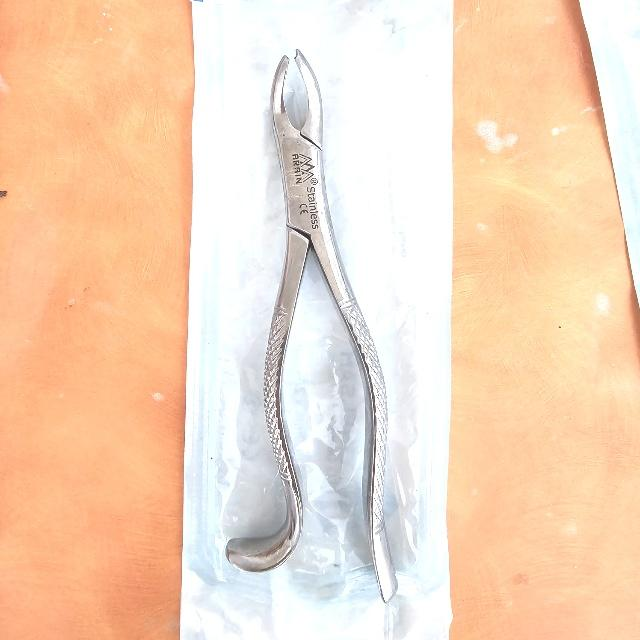forceps: (230, 50, 398, 604)
